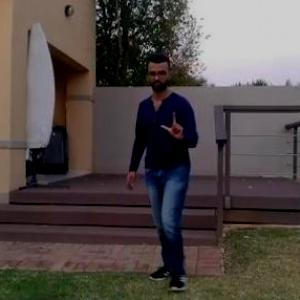land_hand: (152, 106, 187, 146)
